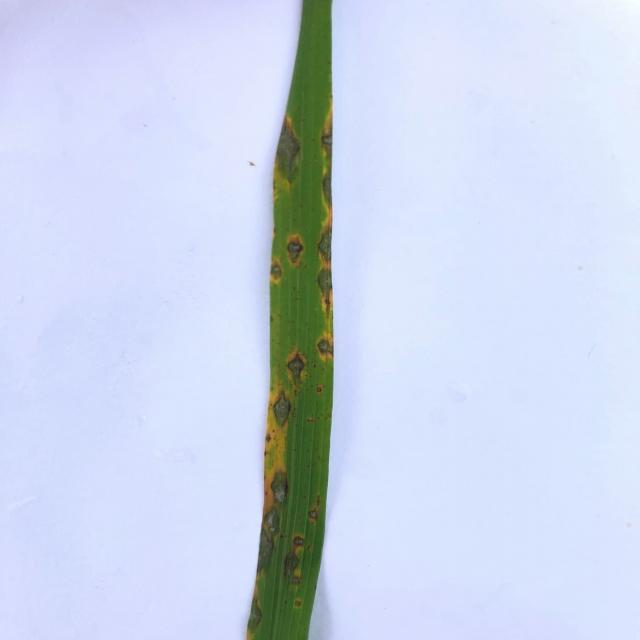leaf blast: (274, 114, 303, 200), (256, 506, 284, 576), (269, 387, 298, 430), (284, 531, 307, 584), (266, 466, 294, 504), (283, 348, 310, 386), (316, 265, 334, 321), (246, 594, 266, 640), (316, 213, 332, 270), (284, 232, 307, 268), (319, 110, 332, 167), (319, 162, 333, 214), (314, 328, 334, 364), (305, 494, 321, 524), (269, 260, 285, 285), (292, 595, 302, 612)
